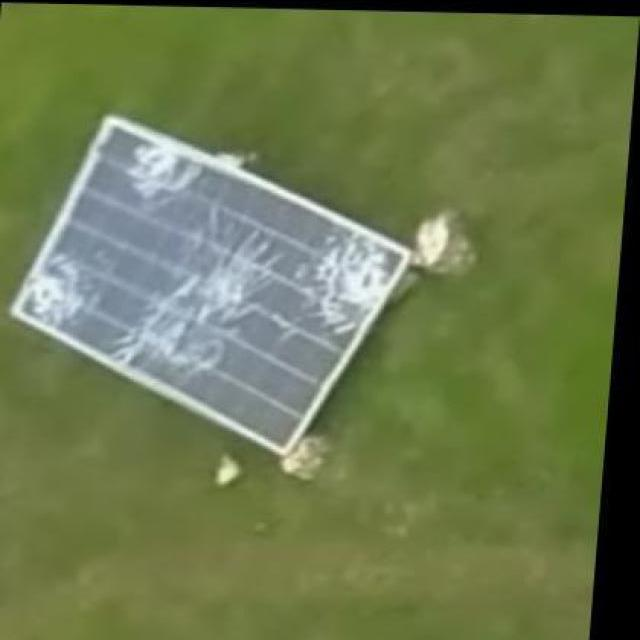cracked: (11, 116, 412, 463)
